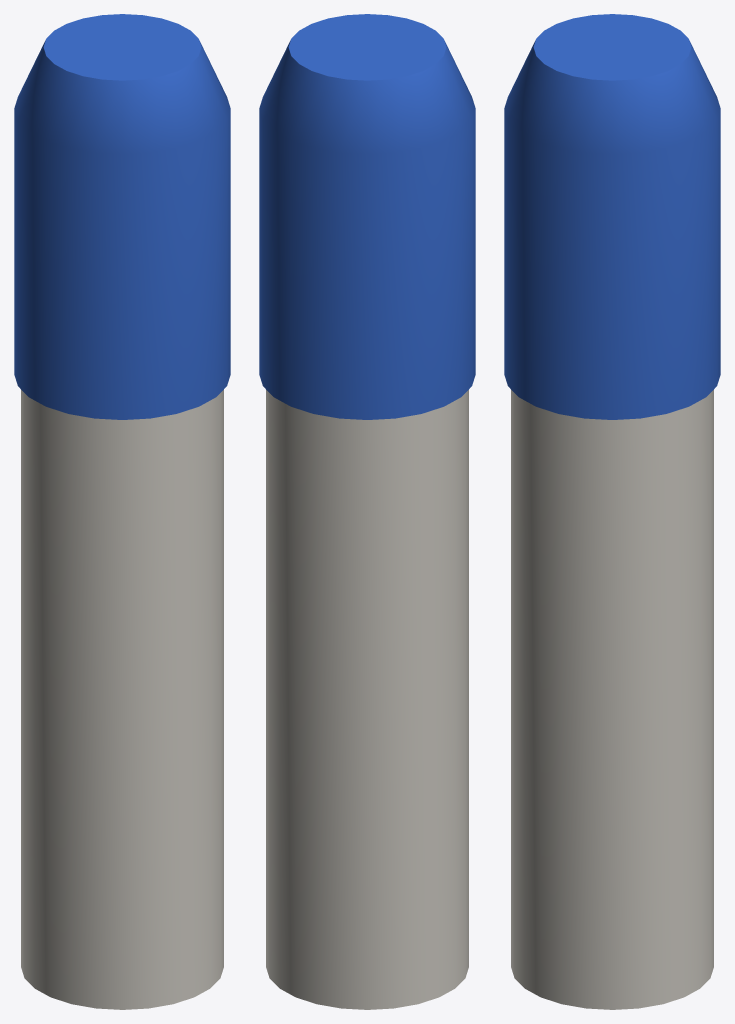
Rendered from glue_stick.glb.
3 views of the same model, side by side, from view 1: azimuth 30°, elevation 25°; view 2: azimuth 150°, elevation 25°; view 3: azimuth 270°, elevation 25° (orthographic).
Visible parts, largest first — view 1: glue_stick; view 2: glue_stick; view 3: glue_stick.
Boxes of the visible parts, bbox=[...] form: glue_stick: bbox=[14, 14, 230, 1009]; glue_stick: bbox=[259, 14, 475, 1009]; glue_stick: bbox=[504, 14, 720, 1009].
Size of the model in its own units: 0.0192 by 0.09 by 0.0192.
